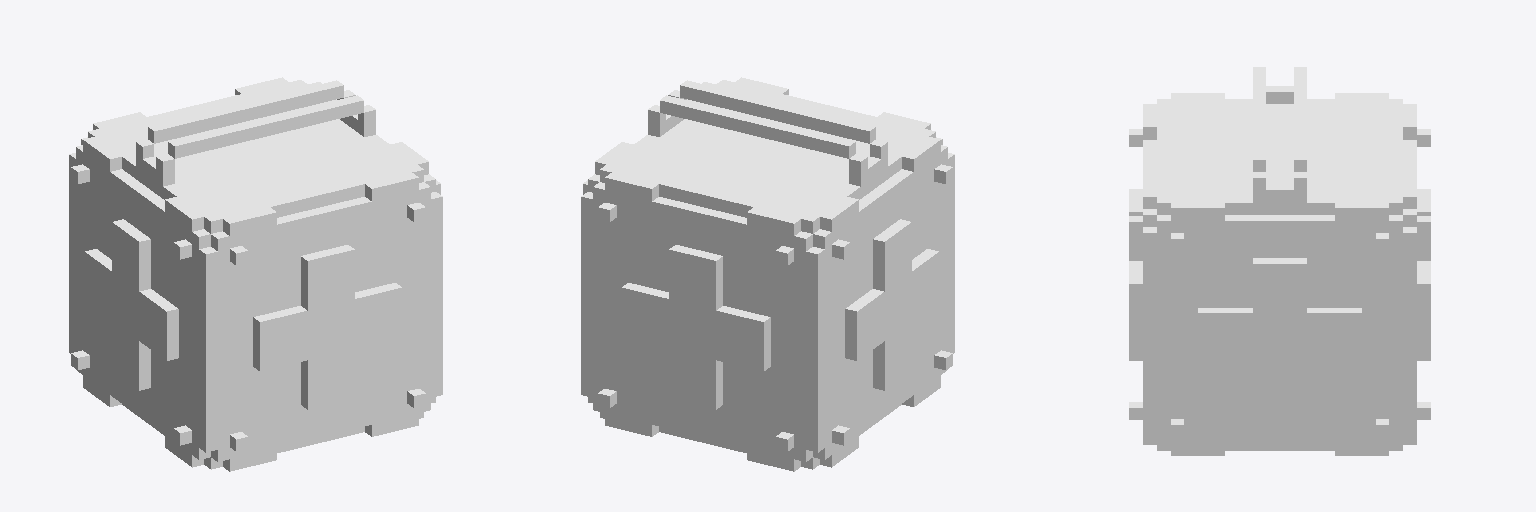
Rendered from Aptechka.obj.
3 renders of one model, left to right at view 1: azimuth 30°, elevation 25°; view 2: azimuth 150°, elevation 25°; view 3: azimuth 270°, elevation 25°, orthographic.
Visible parts, largest first — view 1: object 1; view 2: object 1; view 3: object 1.
Boxes of the visible parts, box(x1,y1,x2,y2) form: object 1: box(69, 77, 442, 471); object 1: box(581, 77, 954, 471); object 1: box(1129, 67, 1430, 455).
Size of the model in its own units: 2.2 by 2.3 by 2.2.